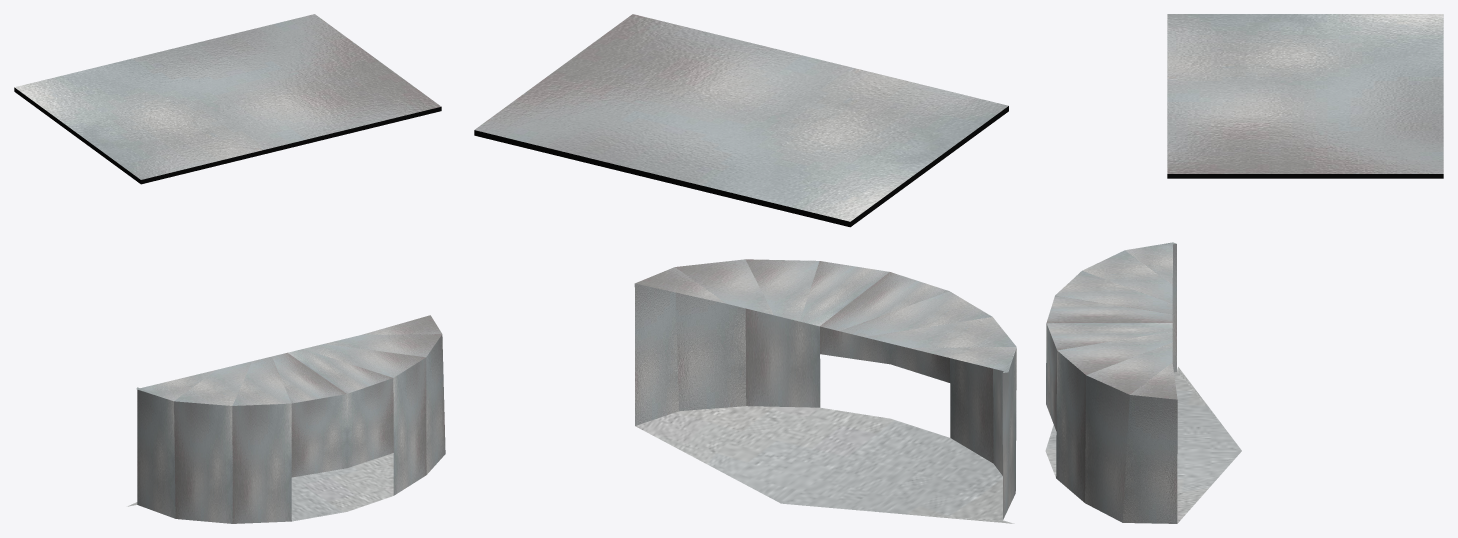
Rendered from techo_entrada.obj.
The picture shows the model from 3 angles, left to right: view 1: azimuth 30°, elevation 25°; view 2: azimuth 150°, elevation 25°; view 3: azimuth 270°, elevation 25°; orthographic projection. The views are drawn at different scales.
Parts seen in each view (by area): view 1: polySurface315; view 2: polySurface315; view 3: polySurface315.
Boxes of the visible parts, x1,y1,x2,y2 form: polySurface315: [14, 14, 445, 523]; polySurface315: [474, 14, 1016, 523]; polySurface315: [1045, 14, 1443, 523].
Bounding box in the file's own units: 8.41 × 8.52 × 8.58.
2 materials, 1 textured.
